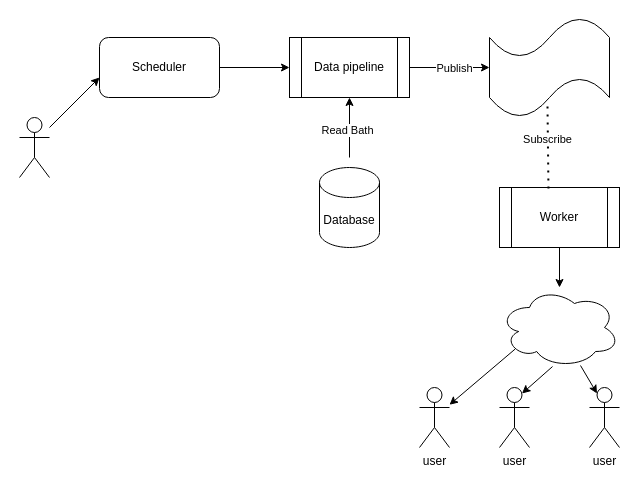
The diagram is 637 pixels wide and 486 high, and some of its shapes have lost their labels. Each missing label, with the box of its shape:
Admin: (18, 116, 50, 178)
Message Queue: (488, 16, 610, 118)
Push Notification Service: (498, 286, 620, 368)
